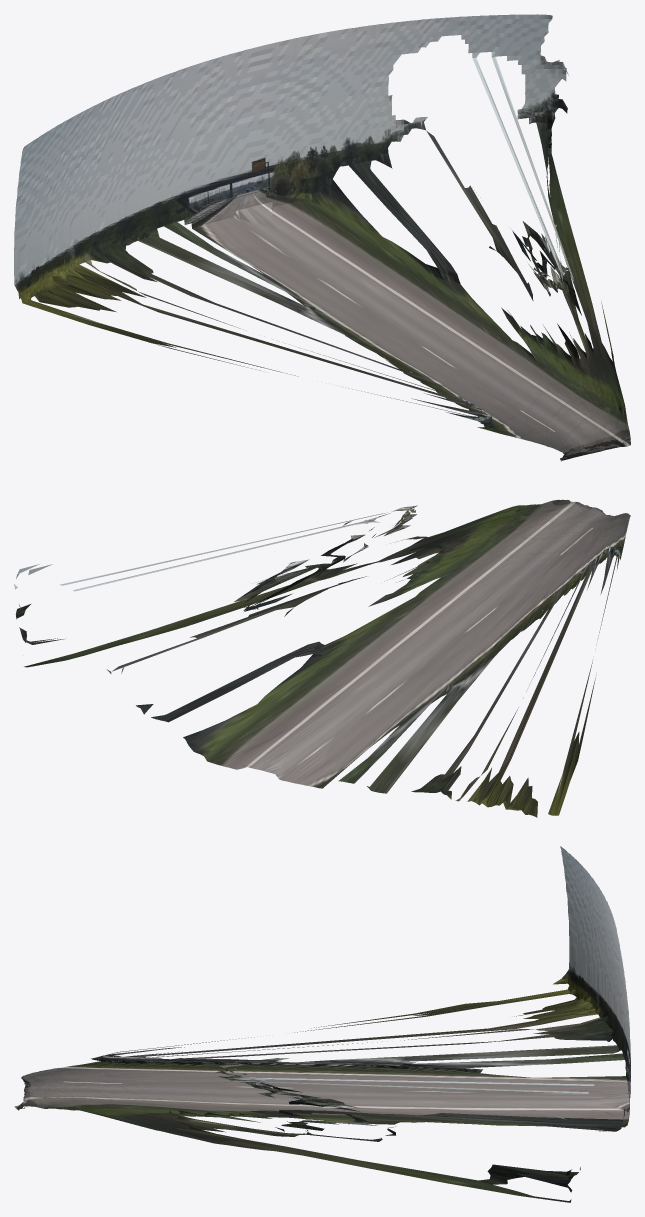
The picture shows the model from 3 angles, top to bottom: view 1: azimuth 30°, elevation 25°; view 2: azimuth 150°, elevation 25°; view 3: azimuth 270°, elevation 25°; orthographic projection. The views are drawn at different scales.
Visible parts, largest first — view 1: defaultobject; view 2: defaultobject; view 3: defaultobject.
Boxes of the visible parts, x1=… form: defaultobject: x1=14, y1=14, x2=630, y2=461; defaultobject: x1=14, y1=499, x2=630, y2=817; defaultobject: x1=14, y1=846, x2=630, y2=1202.
Bounding box in the file's own units: 41.03 × 12.55 × 44.76.
Materials: 1 (1 with a texture image).
